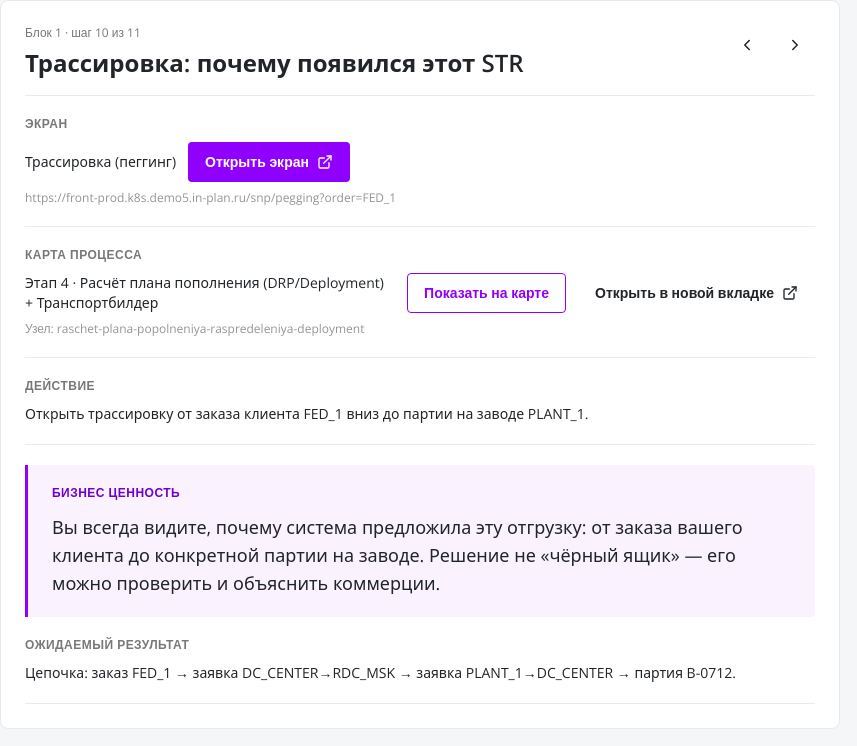
Test case: StepCard: секция «Карта процесса» (SPEC §4.4:277, §4.6:306–309, v2:123–142) › переключатель: клик «Показать на карте» → «Скрыть карту» (aria-expanded/aria-controls), повторный клик — обратно
Click the button "Показать на карте": (487, 293) top-left (407, 273), bottom-right (566, 313)
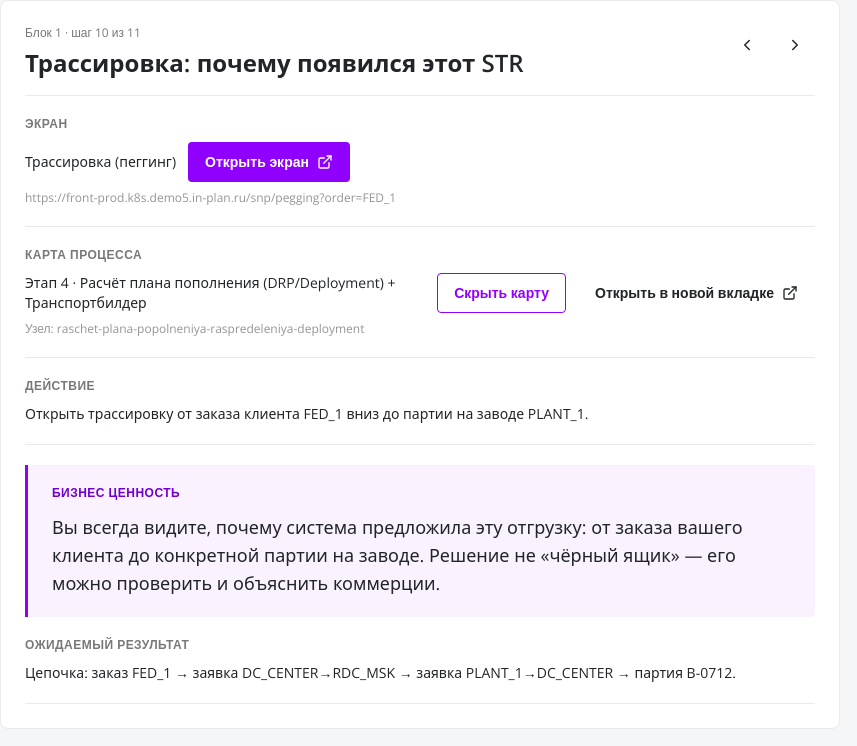
Check: the button "Скрыть карту" is expanded
Click the button "Скрыть карту": (502, 293) top-left (437, 273), bottom-right (566, 313)
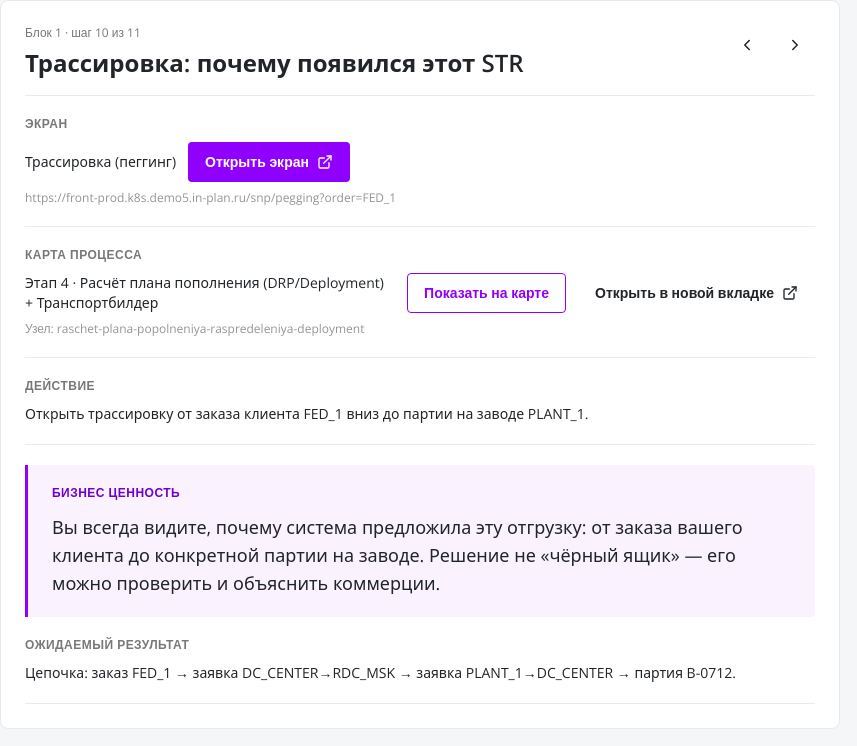
Check: the button "Показать на карте" is collapsed, box top-left (407, 273), bottom-right (566, 313)
